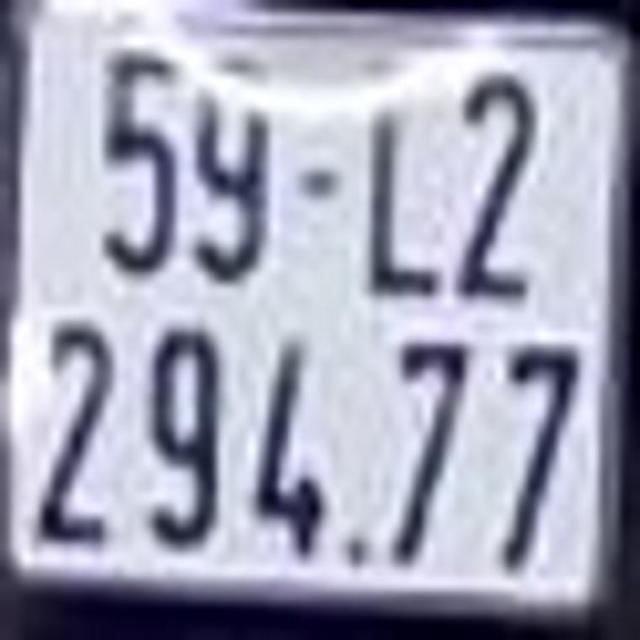2: (457, 61, 538, 304), (35, 307, 113, 551)
4: (246, 332, 326, 564)
5: (101, 42, 180, 279)
7: (388, 324, 469, 566), (501, 328, 579, 571)
9: (187, 50, 274, 285), (143, 313, 220, 546)
L: (351, 60, 446, 303)
